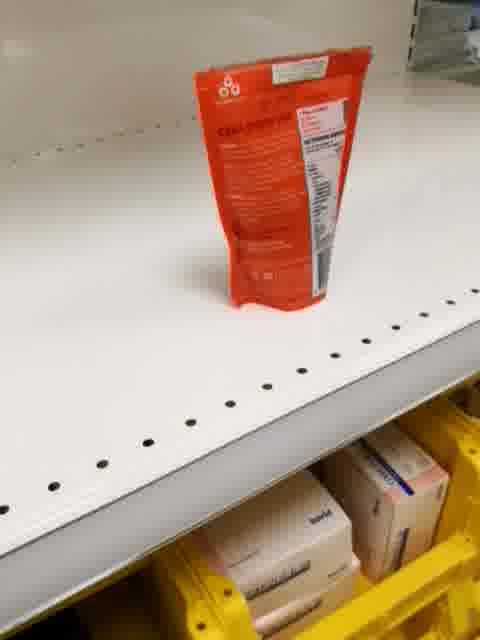whitechia: (193, 43, 375, 318)
